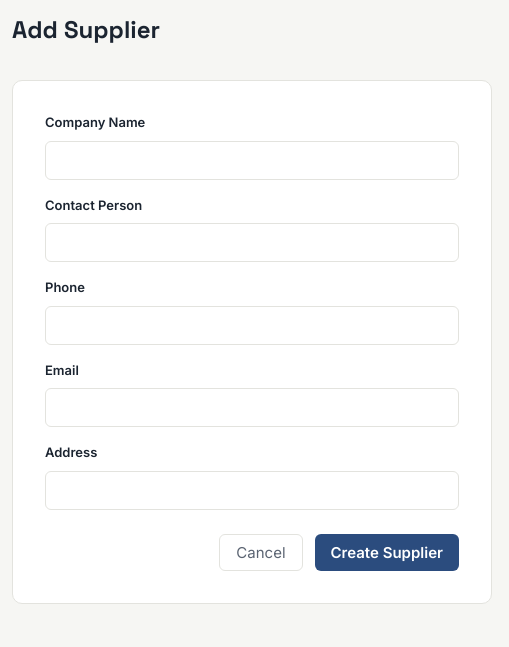
Test: SupplierForm › shows a validation error and does not submit if company name is empty
Click the button "Create Supplier" at {"x": 387, "y": 552}, box [314,534,459,570]
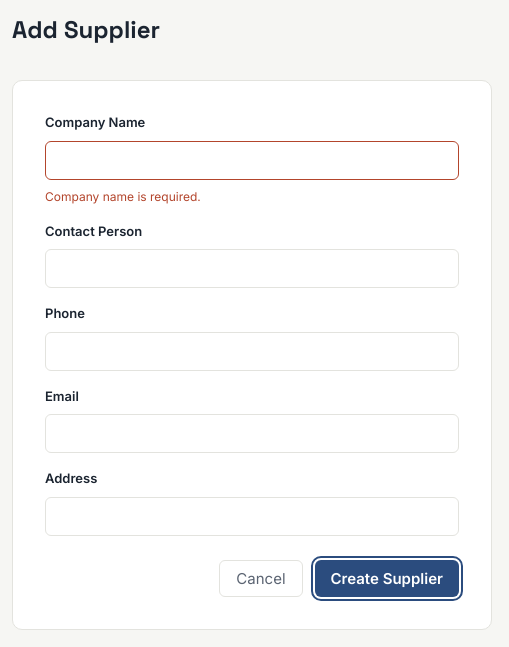
Result: the text "Company name is required." is shown at [45,188,201,204]
